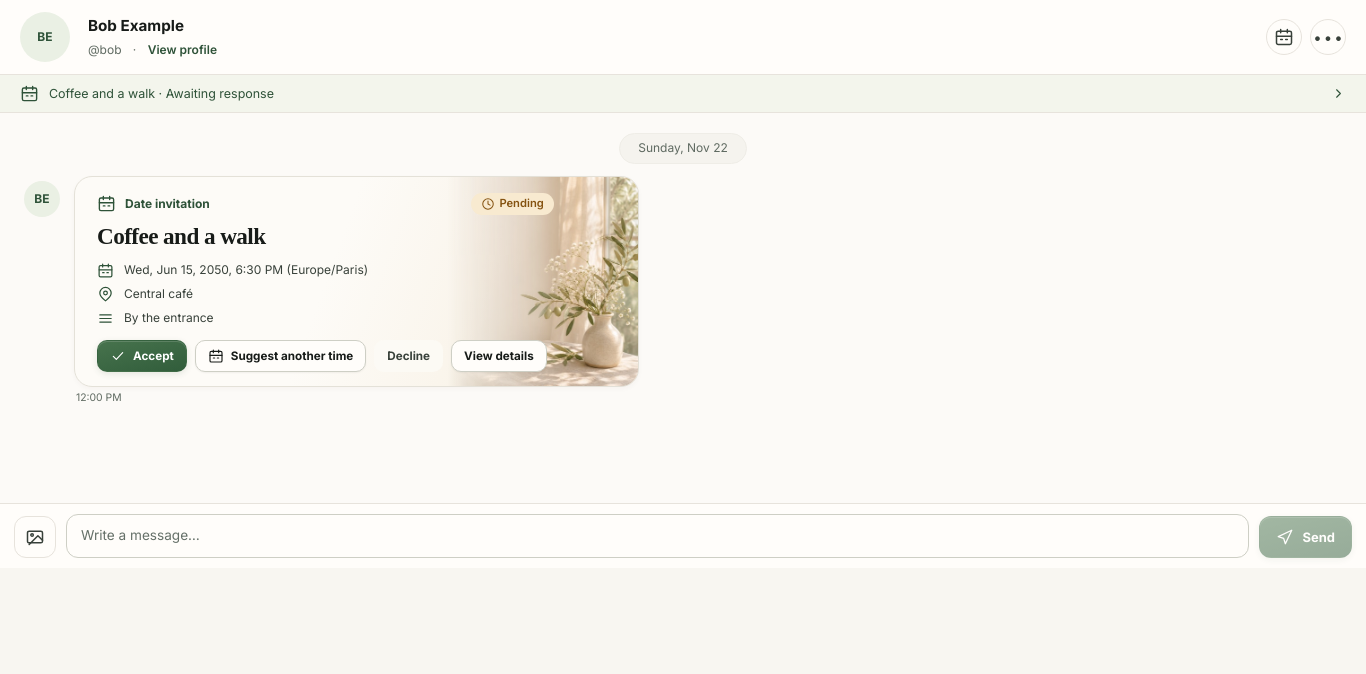
inline proposal reschedule uses the correct current version and workflow
Click the button "Suggest another time": (281, 356) [195,340,366,372]
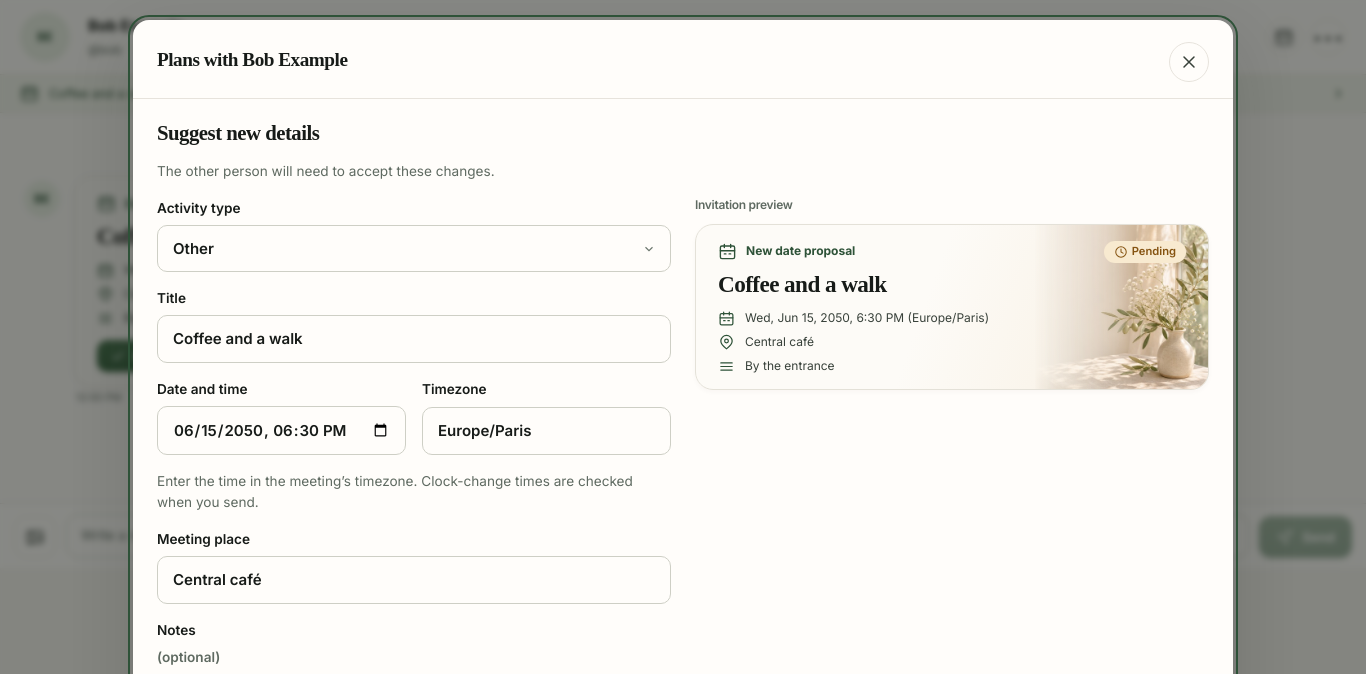
Result: the heading "Suggest new details" is shown at [157,121,319,144]
Result: the field labelled "Date and time" holds "2050-06-15T18:30" at [157,406,406,455]
